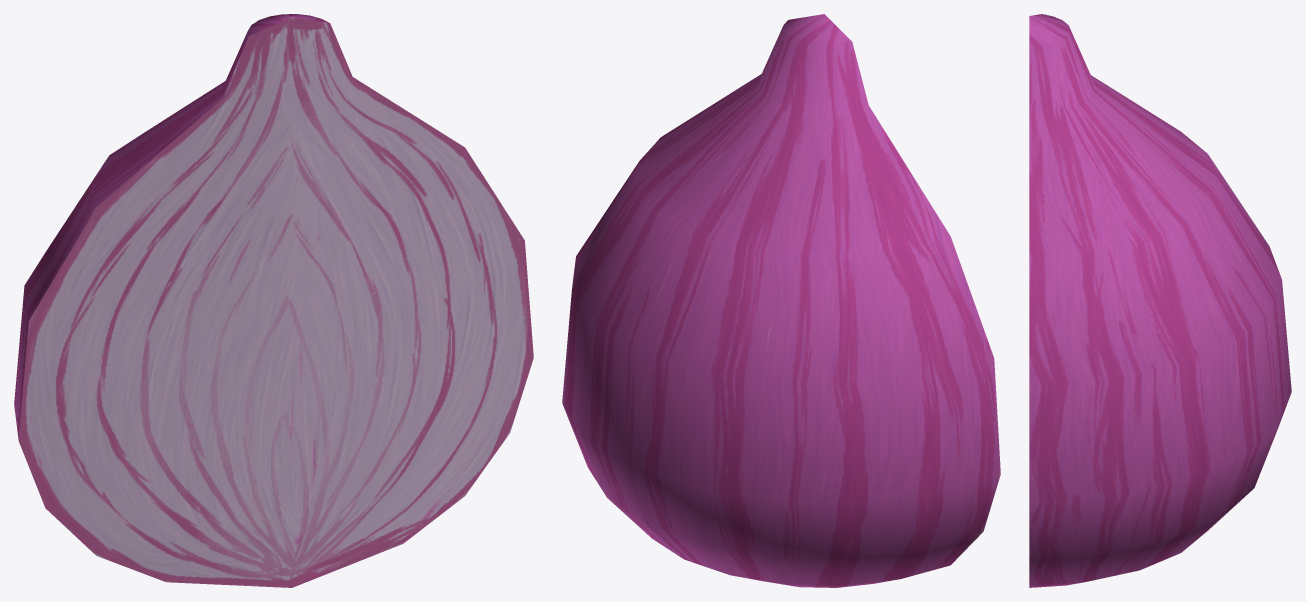
The model's file is Shallot.gltf.
3 views of the same model, side by side, from view 1: azimuth 30°, elevation 25°; view 2: azimuth 150°, elevation 25°; view 3: azimuth 270°, elevation 25° (orthographic). The views are drawn at different scales.
Visible parts, largest first — view 1: shallot; view 2: shallot; view 3: shallot.
Boxes of the visible parts, <box> form: shallot: <box>14,14,533,587</box>; shallot: <box>562,14,1000,587</box>; shallot: <box>1029,14,1291,587</box>.
Size of the model in its own units: 0.0813 by 0.094 by 0.0417.
1 material, 1 textured.
